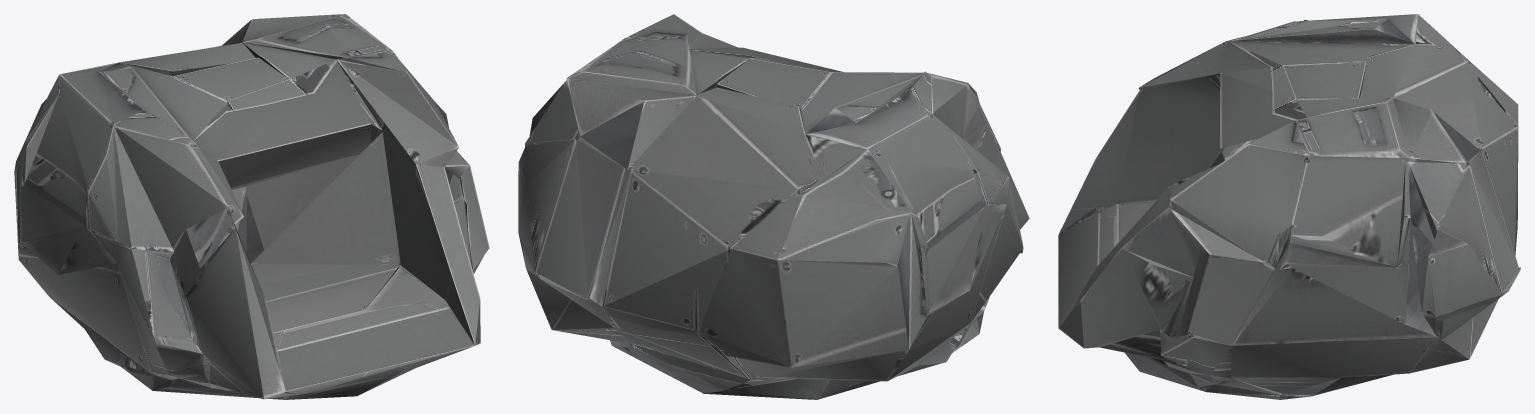
Rendered from shared_flak_tower_large_option__turret_head_lod1.glb.
3 views of the same model, side by side, from view 1: azimuth 30°, elevation 25°; view 2: azimuth 150°, elevation 25°; view 3: azimuth 270°, elevation 25° (orthographic). The views are drawn at different scales.
Visible parts, largest first — view 1: mesh_node; view 2: mesh_node; view 3: mesh_node.
Boxes of the visible parts, x1,y1,x2,y2 form: mesh_node: (14,14,489,399); mesh_node: (518,14,1029,399); mesh_node: (1058,14,1520,399).
Bounding box in the file's own units: 5.16 × 3.37 × 5.51.
Materials: 1 (1 with a texture image).
